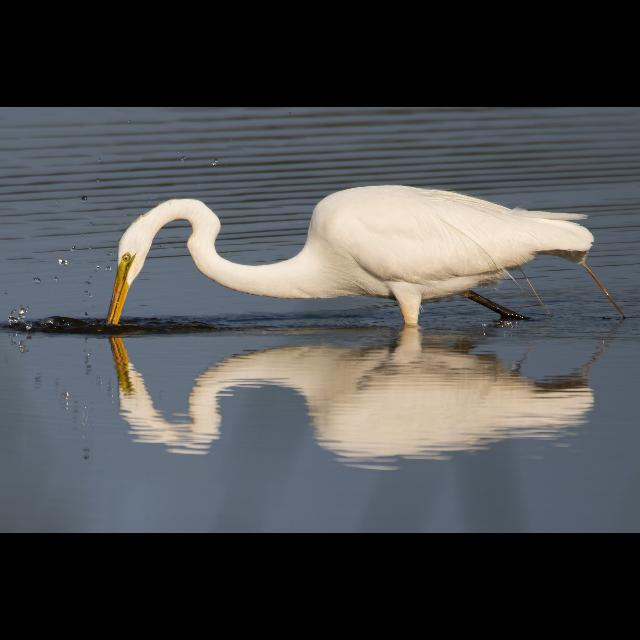egret: (106, 186, 594, 328)
